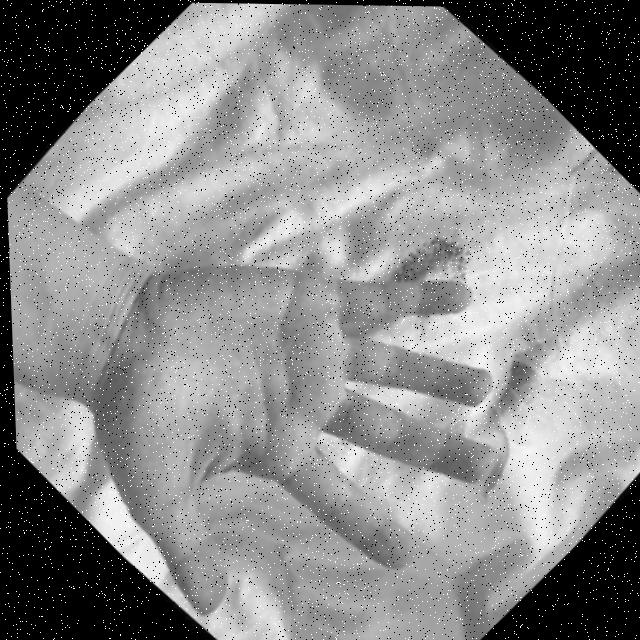hand: (2, 81, 579, 640)
